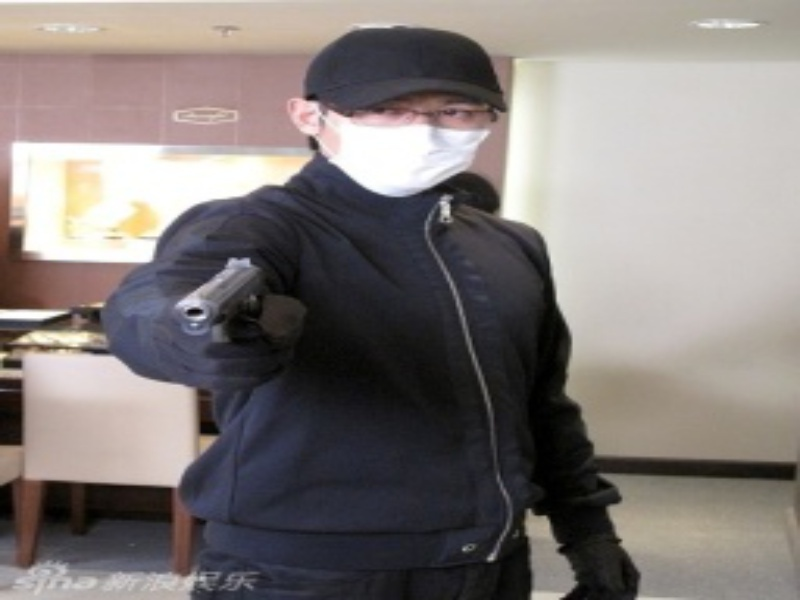ManaoArotava: (276, 39, 532, 228)
